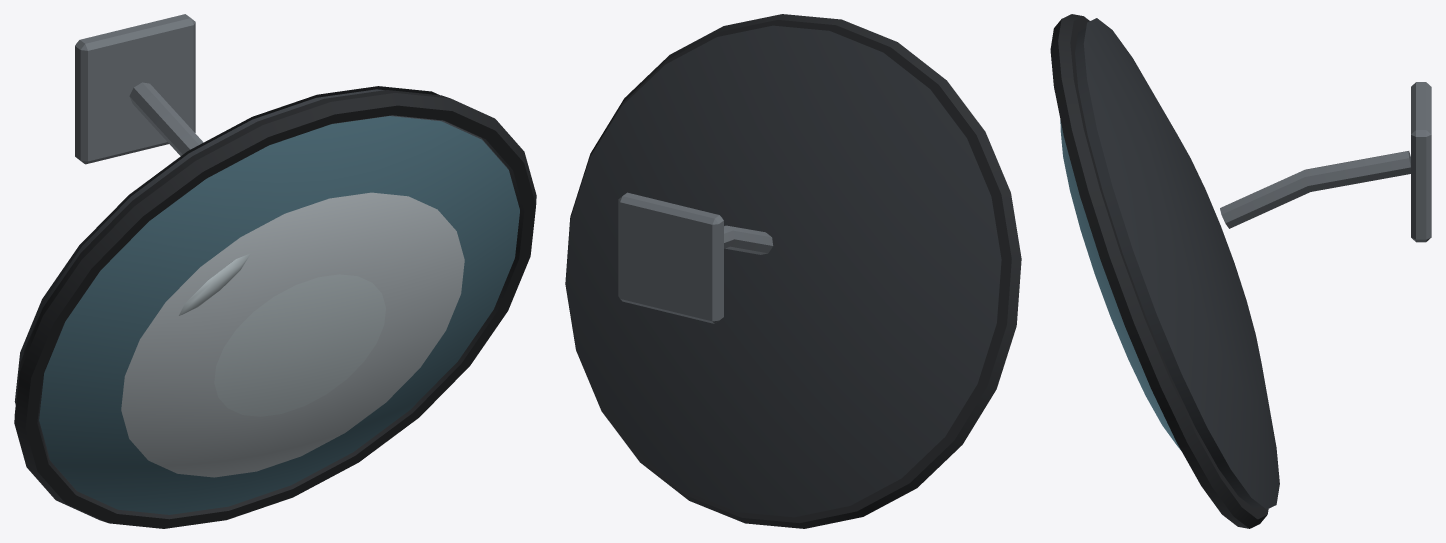
Rendered from SC_Fix_Mirror_Convex_Security.gltf.
3 views of the same model, side by side, from view 1: azimuth 30°, elevation 25°; view 2: azimuth 150°, elevation 25°; view 3: azimuth 270°, elevation 25° (orthographic). The views are drawn at different scales.
Parts seen in each view (by area): view 1: SC_Fix_Mirror_Convex_Security; view 2: SC_Fix_Mirror_Convex_Security; view 3: SC_Fix_Mirror_Convex_Security.
Boxes of the visible parts, left/top/right/bottom form: SC_Fix_Mirror_Convex_Security: left=14, top=14, right=536, bottom=528; SC_Fix_Mirror_Convex_Security: left=565, top=14, right=1021, bottom=528; SC_Fix_Mirror_Convex_Security: left=1050, top=14, right=1431, bottom=528.
Bounding box in the file's own units: 0.532 × 0.4933 × 0.3696.
Materials: 1 (1 with a texture image).
